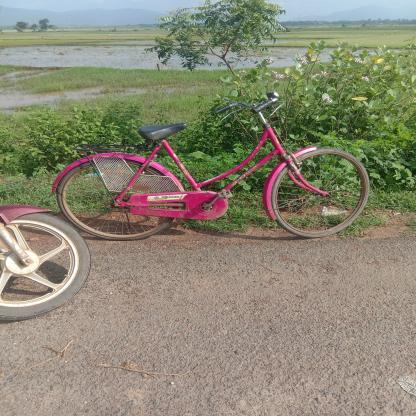bike: (42, 90, 382, 264)
